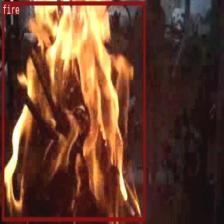fire: (2, 1, 145, 220)
